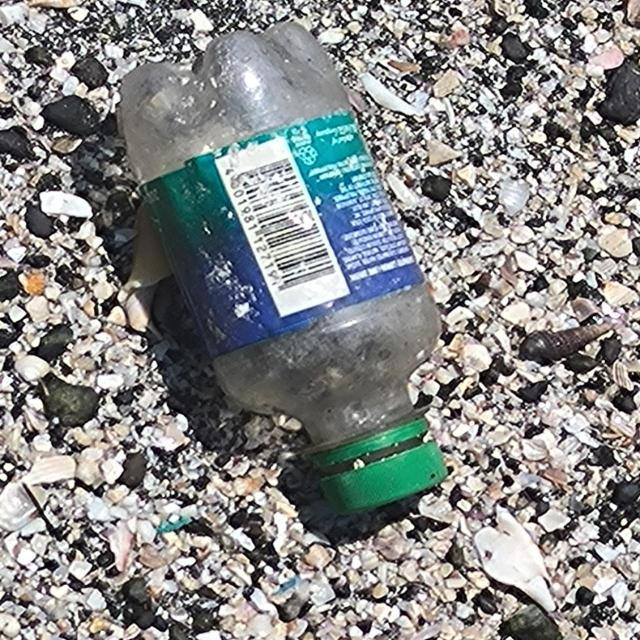plastic_waste: (121, 22, 454, 517)
